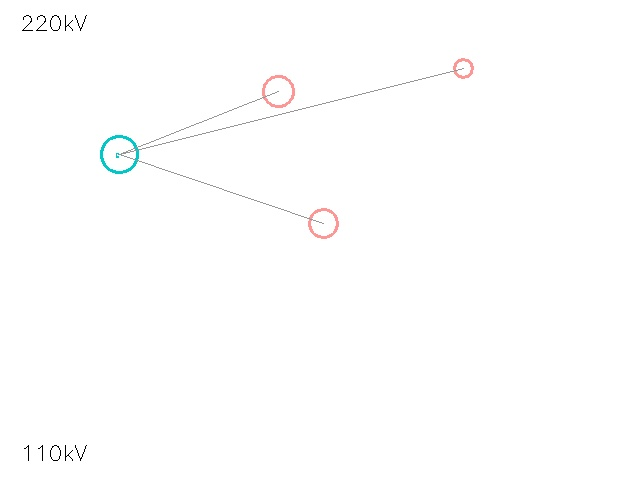disconnect_switch: (295, 195, 351, 251)
fuse: (445, 50, 481, 86)
generator: (101, 136, 137, 172)
voltage_transformer: (248, 61, 308, 121)
